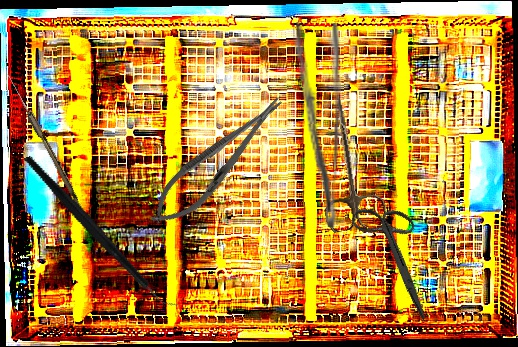Chopper: (21, 123, 182, 340)
Dressing Forceps: (289, 22, 343, 227)
Iris Scissors: (325, 190, 468, 322), (305, 91, 389, 234)
Needle Holder: (138, 84, 297, 239)
Surgical Spoon: (3, 72, 92, 222)
